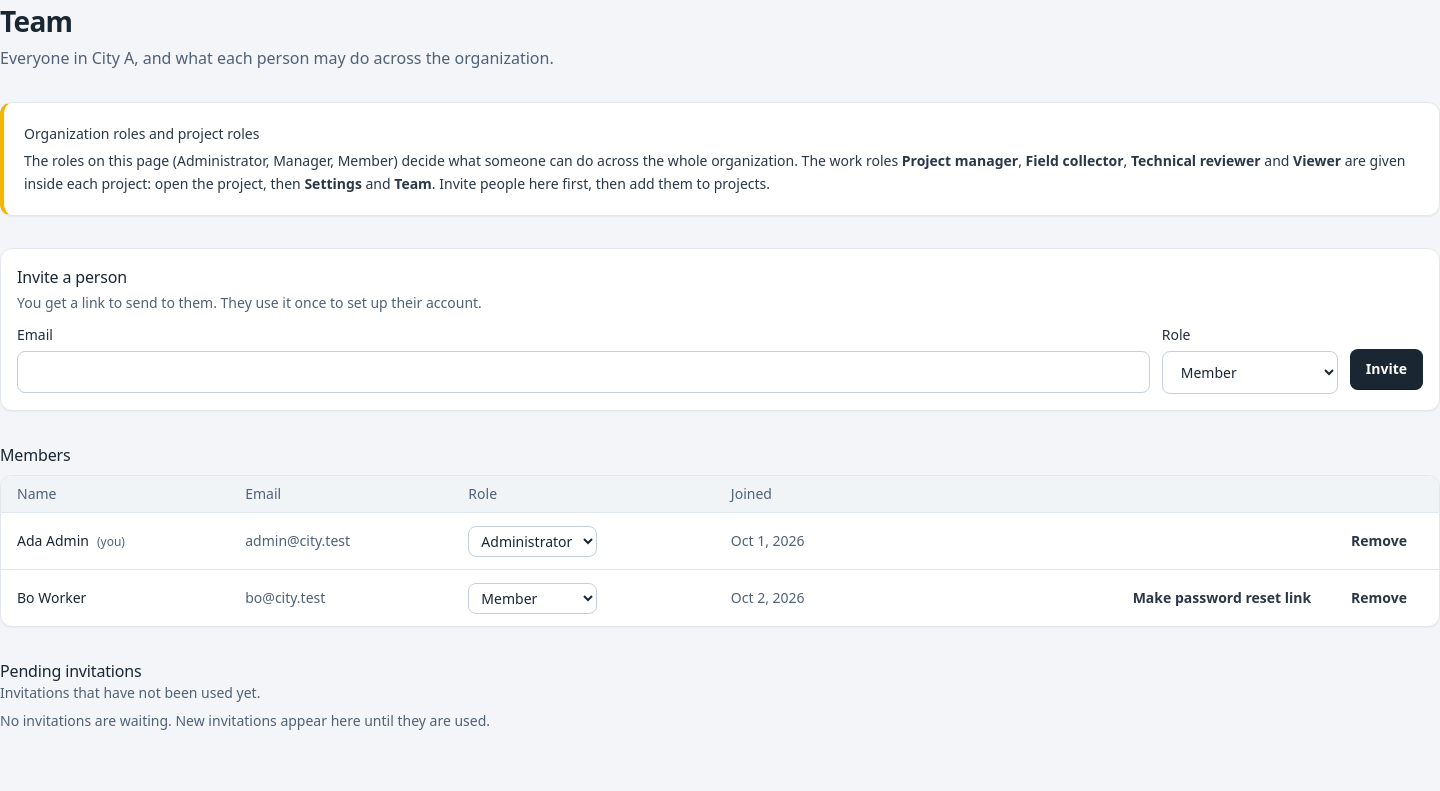
Scenario: TeamPage › lets an admin invite someone and shows the link once with Copy
Expected: the text "Bo Worker" is shown, [1,570,229,626]
Type "new@city.test" into the field labelled "Email".
click(583, 372); type("new@city.test")  # box [17,351,1150,393]
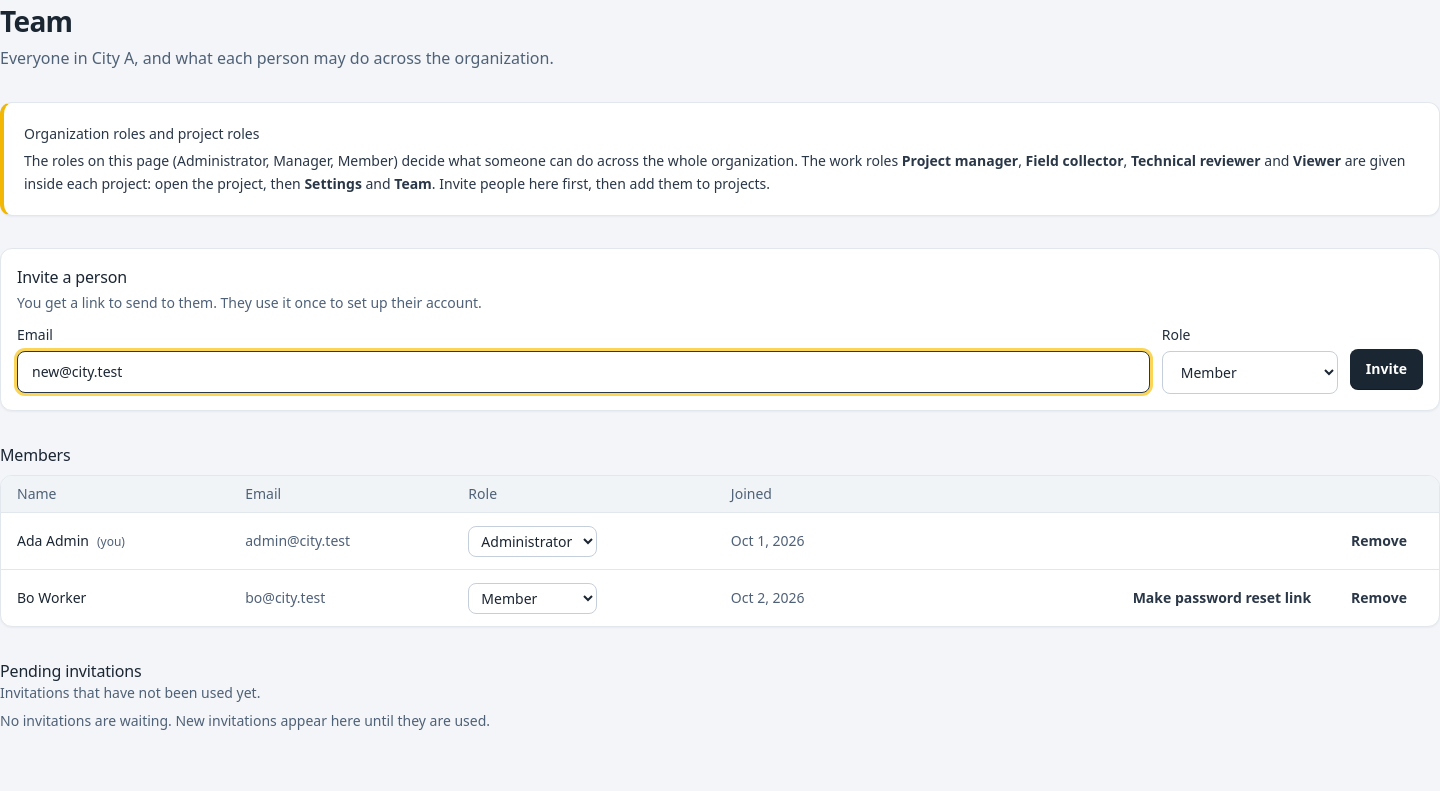
Click the button "Invite".
click(1386, 369)  # box [1350,349,1423,389]
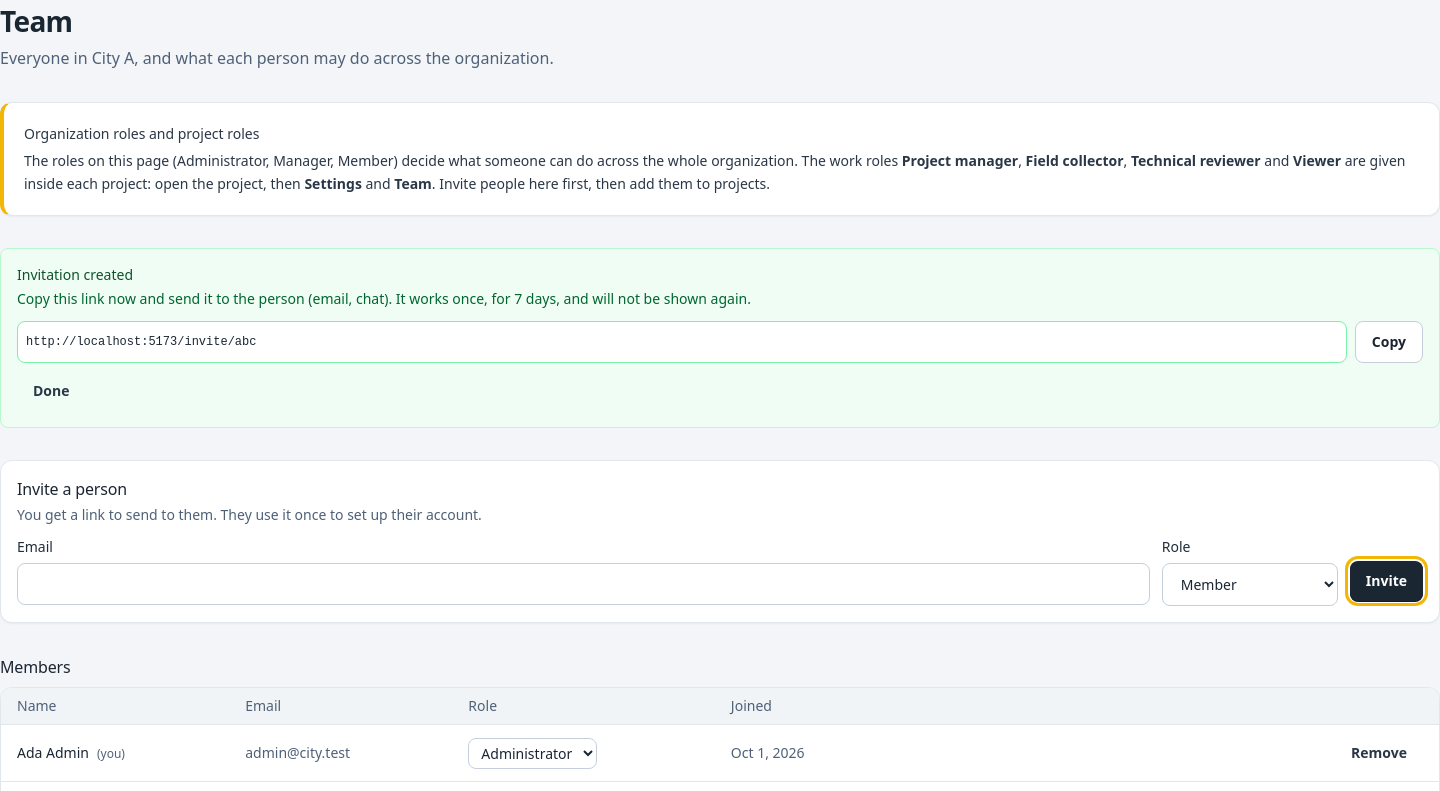
Result: the text "Invitation created" is shown at [17,265,133,284]
Result: the field named "Link" holds "http://localhost:5173/invite/abc" at [17,321,1347,363]
Result: the button "Copy" is shown at [1355,321,1423,363]
